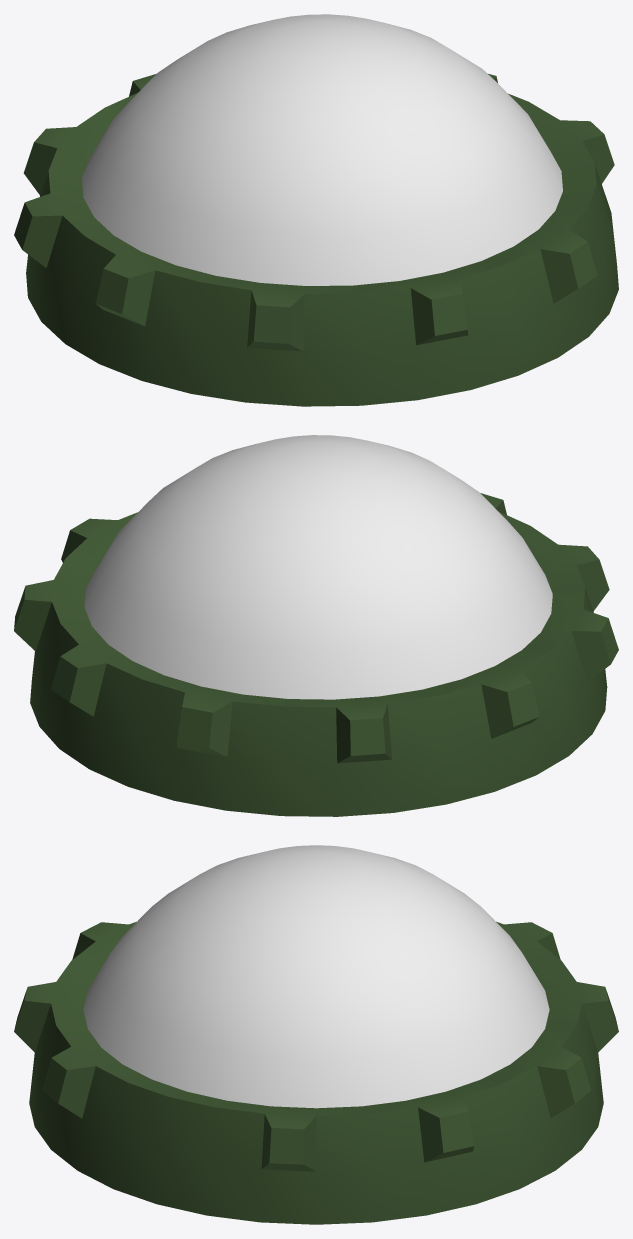
The model's file is lid.fbx.
3 renders of one model, top to bottom at view 1: azimuth 30°, elevation 25°; view 2: azimuth 150°, elevation 25°; view 3: azimuth 270°, elevation 25°, orthographic. The views are drawn at different scales.
Parts seen in each view (by area): view 1: Lid; view 2: Lid; view 3: Lid.
Part boxes in pixels (box(x1,y1,x2,y2)): Lid: box(14, 14, 618, 406); Lid: box(14, 435, 618, 816); Lid: box(14, 845, 618, 1224).
Bounding box in the file's own units: 237 × 103 × 240.
